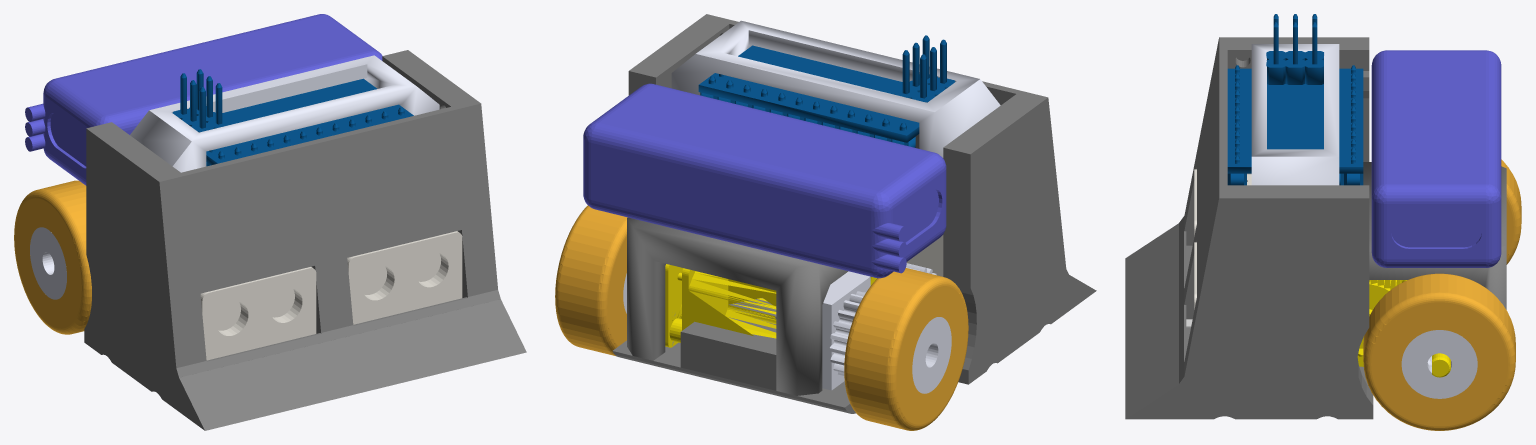
File: sumobot.fbx
3 renders of one model, left to right at view 1: azimuth 30°, elevation 25°; view 2: azimuth 150°, elevation 25°; view 3: azimuth 270°, elevation 25°, orthographic. The views are drawn at different scales.
Parts seen in each view (by area): view 1: Brakets sensores, Placa, Bateria.Turnigy.2S.300mAh, Braket BABY ORANGUTAN, JS40F001, JS40F, Neumatico001, orangutan baby_Domy\X2\015b\X0\lna, Rin001; view 2: Bateria.Turnigy.2S.300mAh, Brakets sensores, Soporte bateria, Braket BABY ORANGUTAN, Neumatico001, Placa, orangutan baby_Domy\X2\015b\X0\lna, Neumatico, Pololu Micromotor, Rin001, Soporte balero V2, Engrane (+2 smaller); view 3: Brakets sensores, Bateria.Turnigy.2S.300mAh, Neumatico, Placa, orangutan baby_Domy\X2\015b\X0\lna, Braket BABY ORANGUTAN, Rin, Soporte bateria, Neumatico001, Pololu Micromotor 2, Pololu Micromotor.
Part boxes in pixels (bbox=[...]): Brakets sensores: bbox=[84, 50, 500, 384]; Placa: bbox=[84, 299, 526, 430]; Bateria.Turnigy.2S.300mAh: bbox=[25, 14, 382, 185]; Braket BABY ORANGUTAN: bbox=[130, 55, 439, 172]; JS40F001: bbox=[200, 267, 316, 360]; JS40F: bbox=[347, 231, 462, 324]; Neumatico001: bbox=[14, 180, 91, 334]; orangutan baby_Domy\X2\015b\X0\lna: bbox=[172, 69, 413, 166]; Rin001: bbox=[30, 227, 66, 299]; Bateria.Turnigy.2S.300mAh: bbox=[583, 83, 946, 278]; Brakets sensores: bbox=[628, 14, 1069, 370]; Soporte bateria: bbox=[627, 217, 847, 395]; Braket BABY ORANGUTAN: bbox=[671, 20, 1000, 157]; Neumatico001: bbox=[844, 268, 968, 430]; Placa: bbox=[612, 275, 1096, 413]; orangutan baby_Domy\X2\015b\X0\lna: bbox=[698, 35, 955, 147]; Neumatico: bbox=[555, 205, 627, 355]; Pololu Micromotor: bbox=[665, 264, 776, 347]; Rin001: bbox=[912, 317, 951, 393]; Soporte balero V2: bbox=[822, 271, 870, 390]; Engrane: bbox=[829, 291, 865, 376]; Brakets sensores: bbox=[1179, 37, 1373, 405]; Bateria.Turnigy.2S.300mAh: bbox=[1371, 50, 1501, 267]; Neumatico: bbox=[1363, 273, 1515, 430]; Placa: bbox=[1125, 223, 1373, 419]; orangutan baby_Domy\X2\015b\X0\lna: bbox=[1227, 14, 1363, 185]; Braket BABY ORANGUTAN: bbox=[1251, 44, 1339, 185]; Rin: bbox=[1401, 330, 1477, 398]; Soporte bateria: bbox=[1363, 162, 1506, 309]; Neumatico001: bbox=[1501, 159, 1521, 264]; Pololu Micromotor 2: bbox=[1357, 280, 1401, 366]; Pololu Micromotor: bbox=[1401, 280, 1450, 377].
Size of the model in its own units: 31.09 by 25.71 by 31.44.
